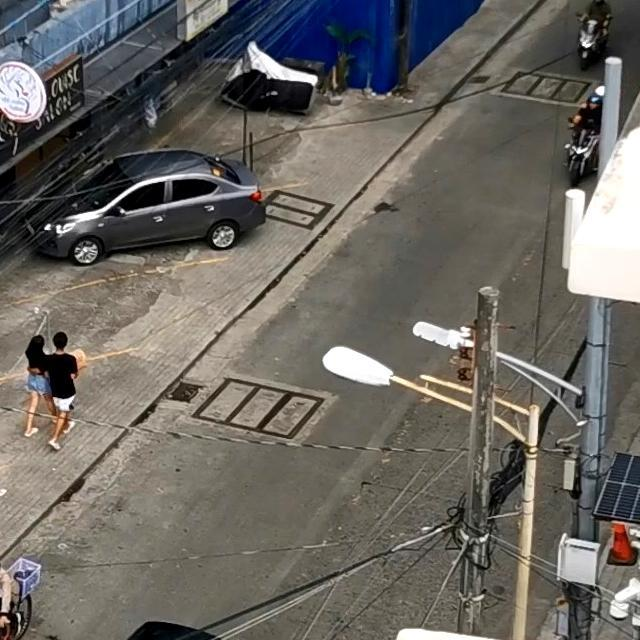Motorcycle: (562, 93, 604, 185), (576, 5, 612, 69)
